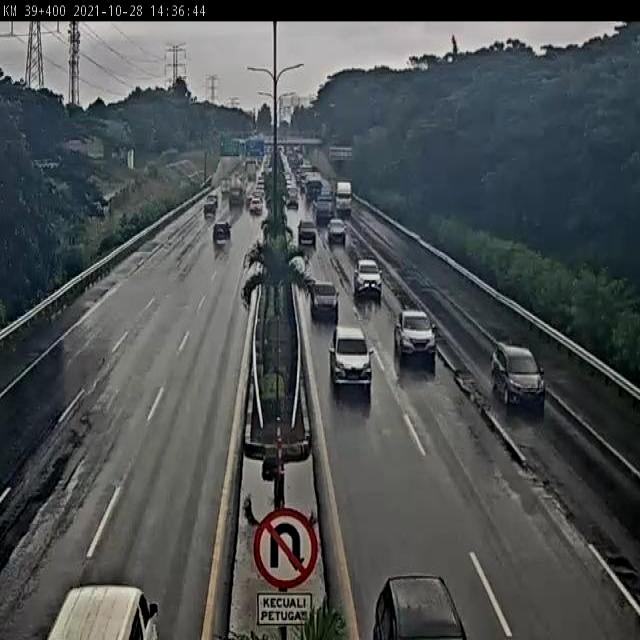Car: (50, 584, 160, 640), (370, 579, 461, 640), (487, 338, 548, 413), (328, 327, 372, 394), (391, 310, 437, 364), (354, 259, 387, 302), (310, 281, 340, 325), (297, 218, 318, 243), (327, 218, 347, 244), (212, 220, 233, 244), (202, 200, 217, 218), (250, 196, 264, 215)
Truck: (332, 181, 353, 218)
